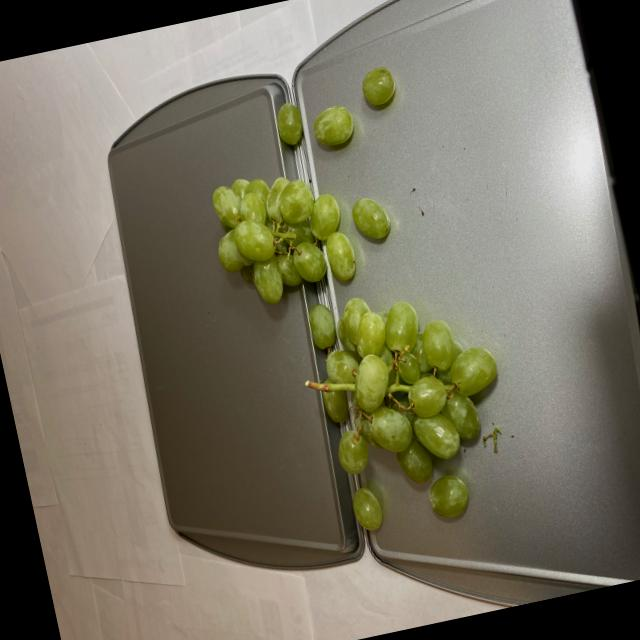grapes: (188, 58, 535, 558)
